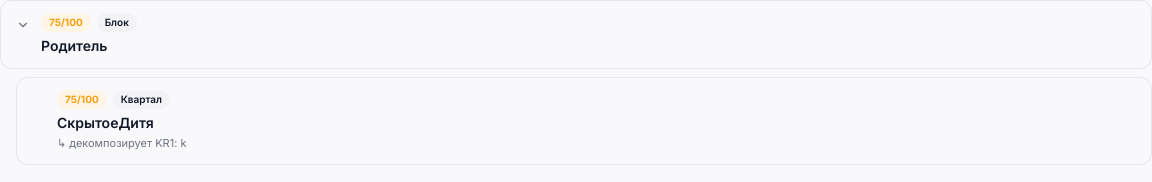
OkrTree › клик по шеврону сворачивает/разворачивает поддерево
Check: the text "СкрытоеДитя" is shown, box [57,114,154,131]
Click the button named "Свернуть" at (23, 25), box [13,15,33,35]
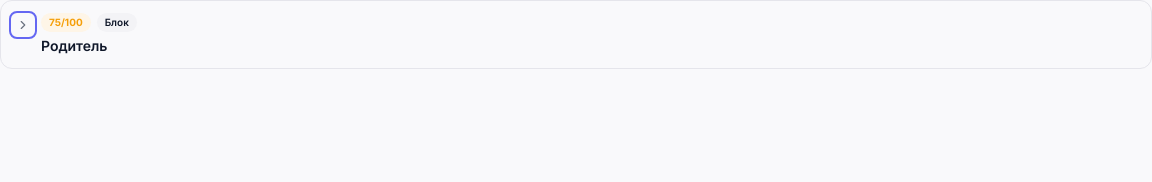
Check: the text "СкрытоеДитя" is gone
Click the button named "Развернуть" at (23, 25), box [13,15,33,35]
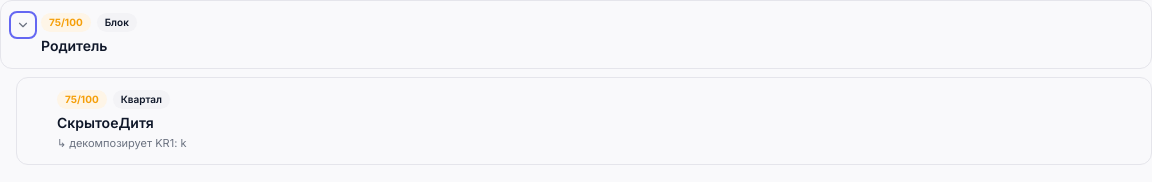
Check: the text "СкрытоеДитя" is shown, box [57,114,154,131]
